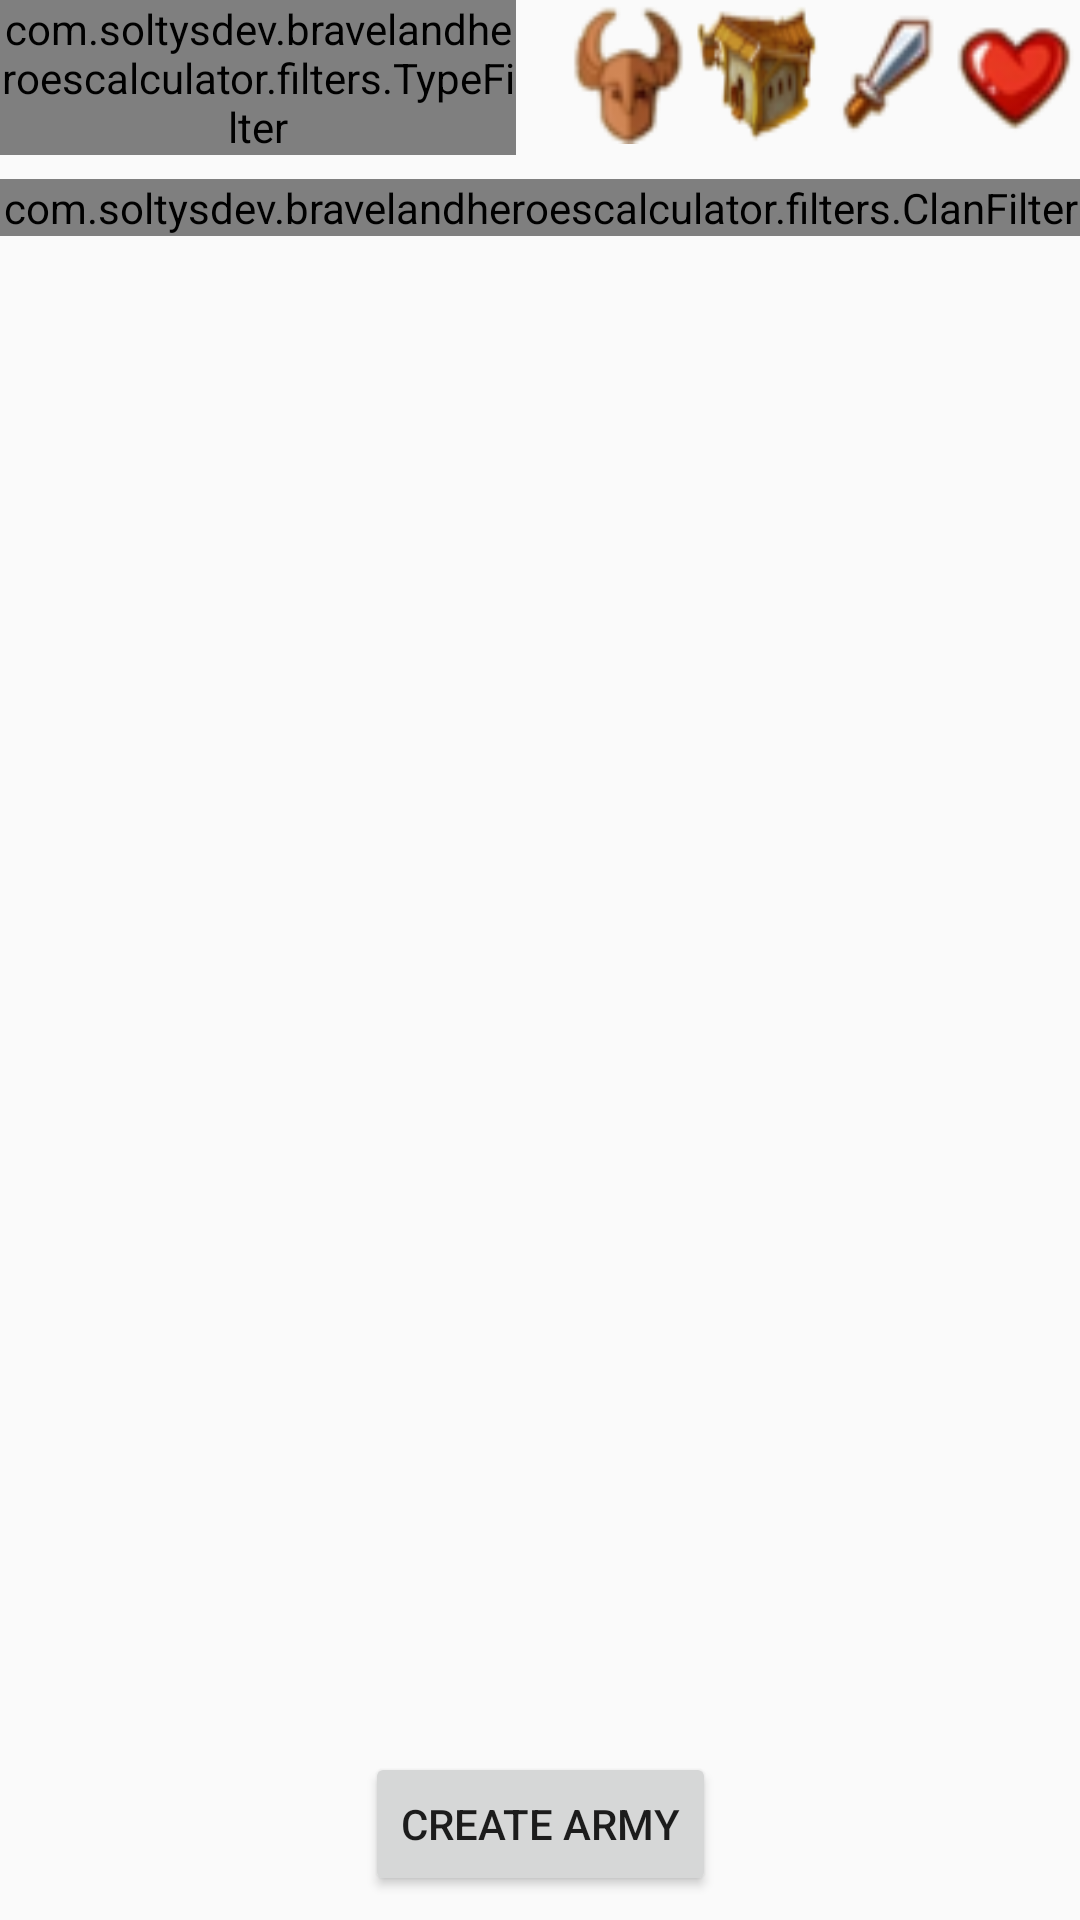

Where to tap for icons on this 1080x1920 app screen, as (x=x, y=y):
damage: (x=888, y=73)
health: (x=1014, y=78)
unit: (x=628, y=76)
